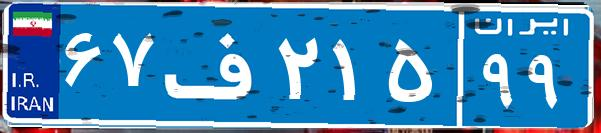1: (330, 28, 385, 110)
2: (273, 28, 330, 110)
5: (385, 28, 445, 110)
6: (57, 26, 110, 107)
7: (110, 28, 158, 105)
9: (475, 38, 525, 113), (525, 38, 570, 115)
ف: (158, 15, 273, 115)
